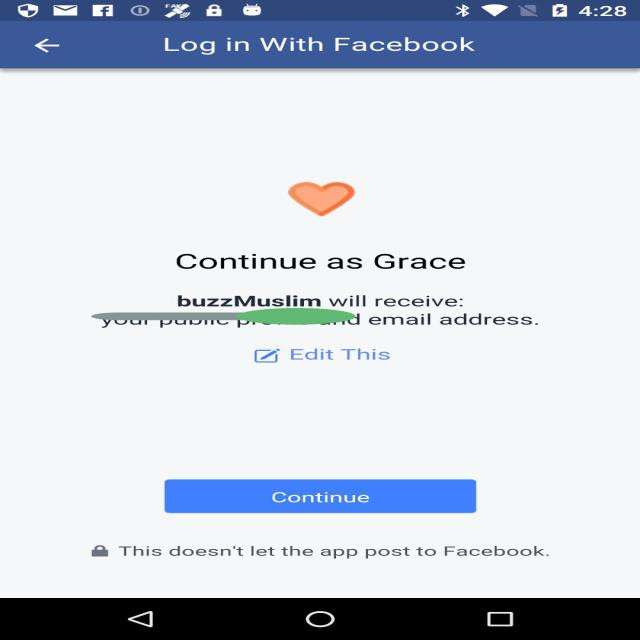social proof: (91, 298, 356, 335)
